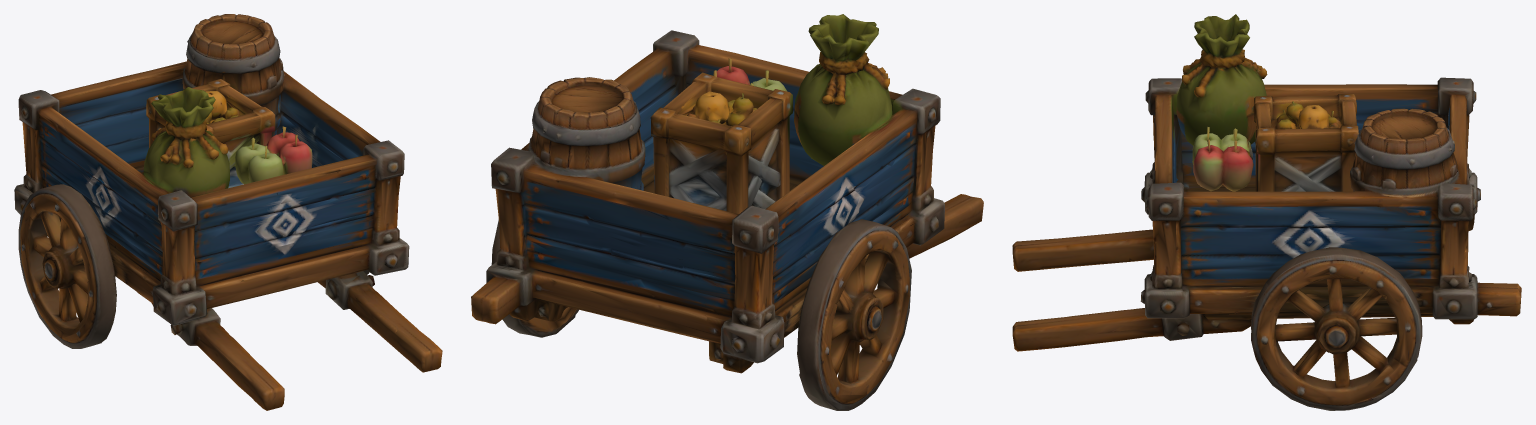
The model's file is carro_de_madera.glb.
3 views of the same model, side by side, from view 1: azimuth 30°, elevation 25°; view 2: azimuth 150°, elevation 25°; view 3: azimuth 270°, elevation 25° (orthographic). The views are drawn at different scales.
Parts seen in each view (by area): view 1: carro_de_madera; view 2: carro_de_madera; view 3: carro_de_madera.
Boxes of the visible parts, x1,y1,x2,y2 form: carro_de_madera: [14, 14, 442, 410]; carro_de_madera: [471, 14, 983, 410]; carro_de_madera: [1012, 14, 1521, 410].
Size of what is drawn, in the model's own units: 1.42 by 1.2 by 1.97.
1 material, 1 textured.
